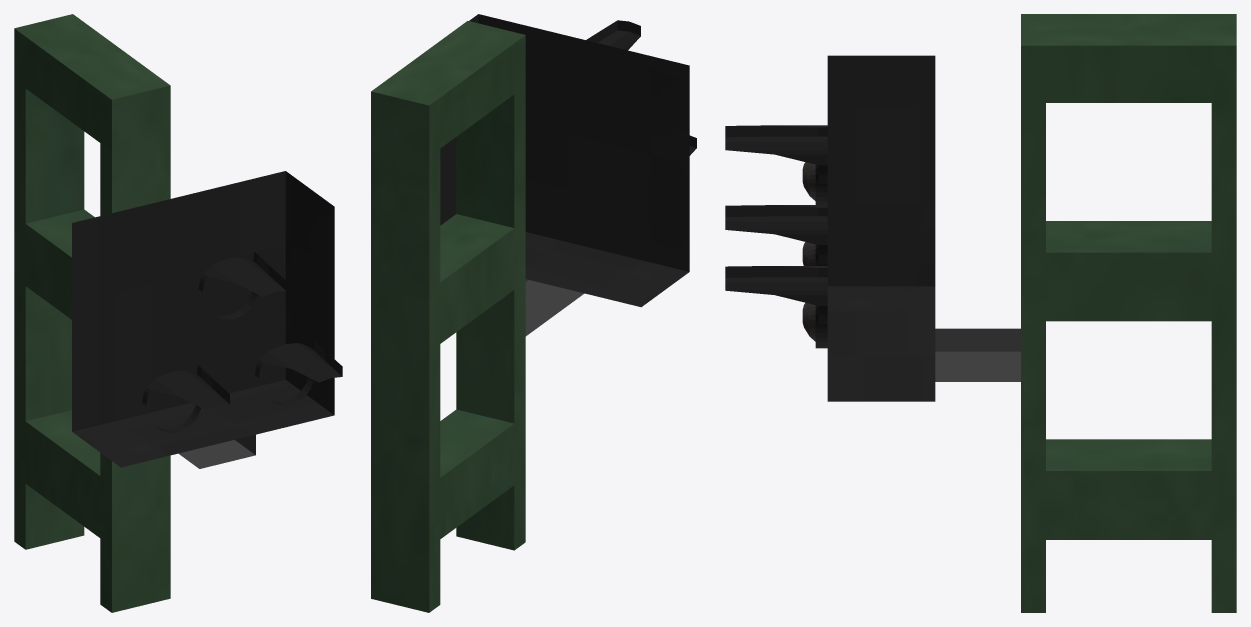
Rendered from hv_ersatzsignal.obj.
The picture shows the model from 3 angles, left to right: view 1: azimuth 30°, elevation 25°; view 2: azimuth 150°, elevation 25°; view 3: azimuth 270°, elevation 25°; orthographic projection. The views are drawn at different scales.
Visible parts, largest first — view 1: HV_Ersatzsignal; view 2: HV_Ersatzsignal; view 3: HV_Ersatzsignal.
Part boxes in pixels (box(x1,y1,x2,y2)): HV_Ersatzsignal: box(14, 14, 342, 612); HV_Ersatzsignal: box(371, 14, 696, 612); HV_Ersatzsignal: box(725, 14, 1236, 612).
Bounding box in the file's own units: 0.379 × 0.87 × 0.711.
Materials: 2 (2 with a texture image).
